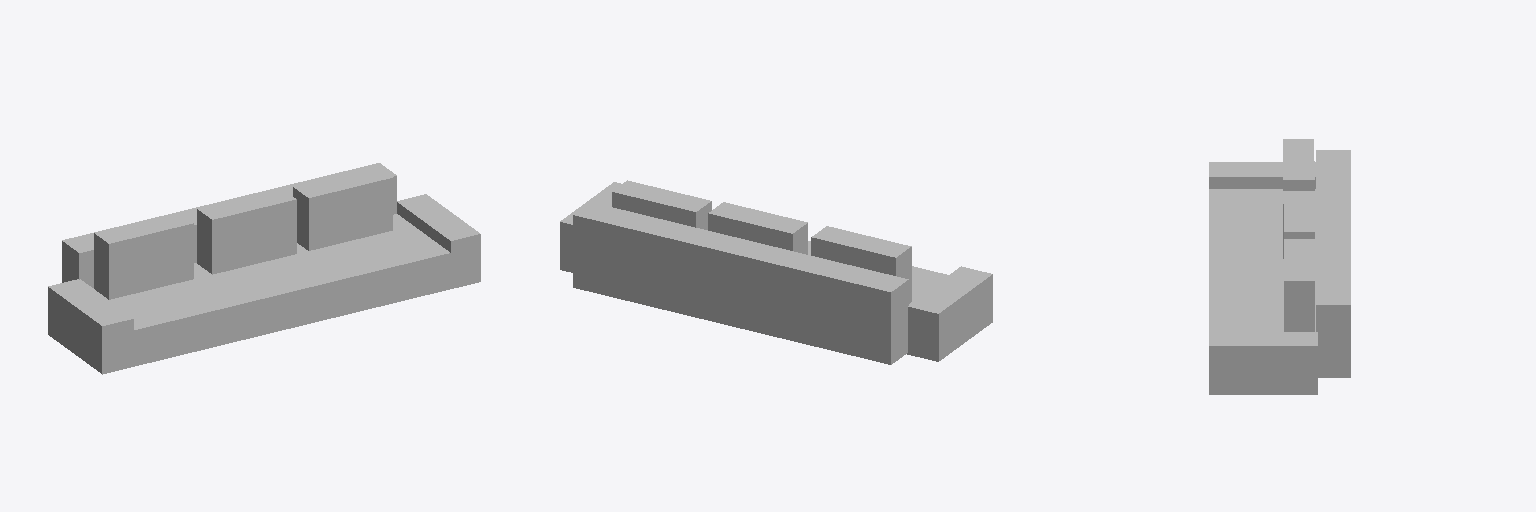
Rendered from divan2.obj.
3 views of the same model, side by side, from view 1: azimuth 30°, elevation 25°; view 2: azimuth 150°, elevation 25°; view 3: azimuth 270°, elevation 25° (orthographic).
Parts seen in each view (by area): view 1: Cube, Cube.006, Cube.004, Cube.005, Cube.002, Cube.001, Cube.003; view 2: Cube.003, Cube.002, Cube.006, Cube.004, Cube.005, Cube.001, Cube; view 3: Cube, Cube.003, Cube.001, Cube.005, Cube.002, Cube.006, Cube.004.
Boxes of the visible parts, x1,y1,x2,y2 form: Cube: [93, 214, 450, 366]; Cube.006: [94, 212, 193, 299]; Cube.004: [197, 188, 296, 274]; Cube.005: [293, 166, 392, 250]; Cube.002: [48, 279, 133, 374]; Cube.001: [397, 194, 480, 288]; Cube.003: [62, 163, 396, 287]; Cube.003: [573, 202, 908, 364]; Cube.002: [907, 266, 992, 361]; Cube.006: [811, 226, 911, 303]; Cube.004: [708, 202, 807, 254]; Cube.005: [612, 180, 711, 229]; Cube.001: [560, 182, 620, 272]; Cube: [808, 241, 947, 302]; Cube: [1209, 189, 1315, 331]; Cube.003: [1316, 150, 1350, 377]; Cube.001: [1209, 332, 1317, 394]; Cube.005: [1284, 239, 1314, 331]; Cube.002: [1209, 162, 1315, 188]; Cube.006: [1283, 139, 1314, 190]; Cube.004: [1283, 191, 1314, 258].
Bounding box in the file's own units: 8.59 × 2 × 2.81.